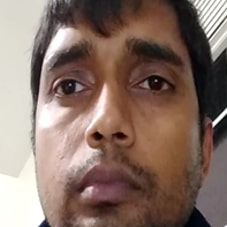awake: (36, 35, 190, 208)
